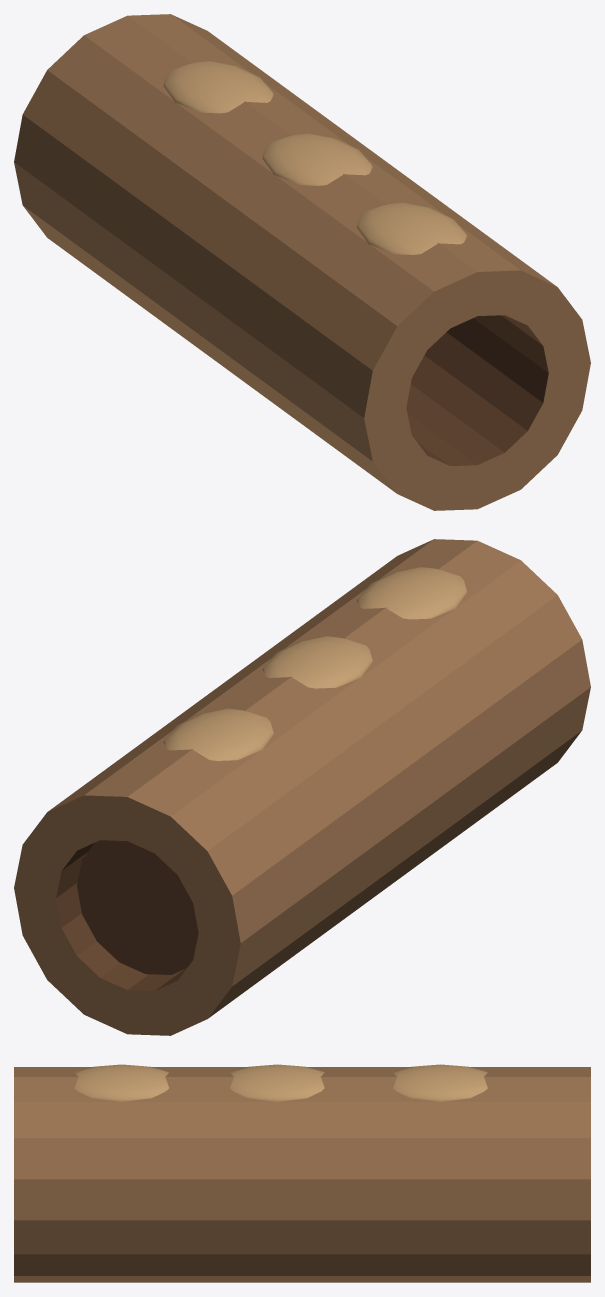
The model's file is Log_Hollow.fbx.
3 views of the same model, one above another, from view 1: azimuth 30°, elevation 25°; view 2: azimuth 150°, elevation 25°; view 3: azimuth 270°, elevation 25° (orthographic). The views are drawn at different scales.
Parts seen in each view (by area): view 1: Hollow_Log_Tube, Bark_Patch.001, Bark_Patch, Bark_Patch.002; view 2: Hollow_Log_Tube, Dark_Interior_Back, Bark_Patch.002, Bark_Patch, Bark_Patch.001; view 3: Hollow_Log_Tube, Bark_Patch.001, Bark_Patch.002, Bark_Patch.
Part boxes in pixels (left/top/right/bottom): Hollow_Log_Tube: left=14, top=14, right=590, bottom=510; Bark_Patch.001: left=262, top=133, right=372, bottom=185; Bark_Patch: left=357, top=202, right=467, bottom=254; Bark_Patch.002: left=163, top=60, right=273, bottom=113; Hollow_Log_Tube: left=14, top=539, right=590, bottom=1035; Dark_Interior_Back: left=77, top=840, right=198, bottom=974; Bark_Patch.002: left=163, top=708, right=273, bottom=760; Bark_Patch: left=357, top=567, right=467, bottom=619; Bark_Patch.001: left=262, top=636, right=372, bottom=688; Hollow_Log_Tube: left=14, top=1067, right=590, bottom=1282; Bark_Patch.001: left=230, top=1064, right=324, bottom=1102; Bark_Patch.002: left=393, top=1064, right=487, bottom=1102; Bark_Patch: left=74, top=1064, right=168, bottom=1102.
Bounding box in the file's own units: 86 × 87.5 × 230.
